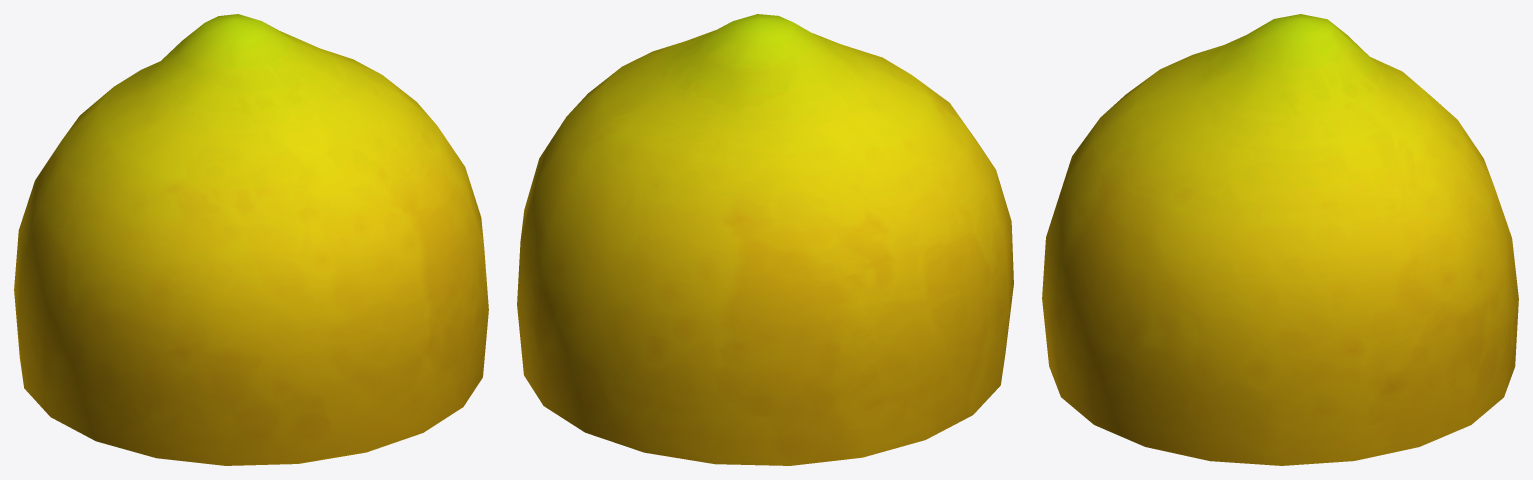
File: SM_LemonCutTop.fbx
3 views of the same model, side by side, from view 1: azimuth 30°, elevation 25°; view 2: azimuth 150°, elevation 25°; view 3: azimuth 270°, elevation 25° (orthographic). The views are drawn at different scales.
Visible parts, largest first — view 1: SM_LemonCutTop; view 2: SM_LemonCutTop; view 3: SM_LemonCutTop.
Part boxes in pixels (x1,y1,x2,y2): SM_LemonCutTop: [14, 14, 488, 465]; SM_LemonCutTop: [517, 14, 1013, 465]; SM_LemonCutTop: [1042, 14, 1518, 465].
Size of the model in its own units: 10.95 by 8.59 by 10.82.
